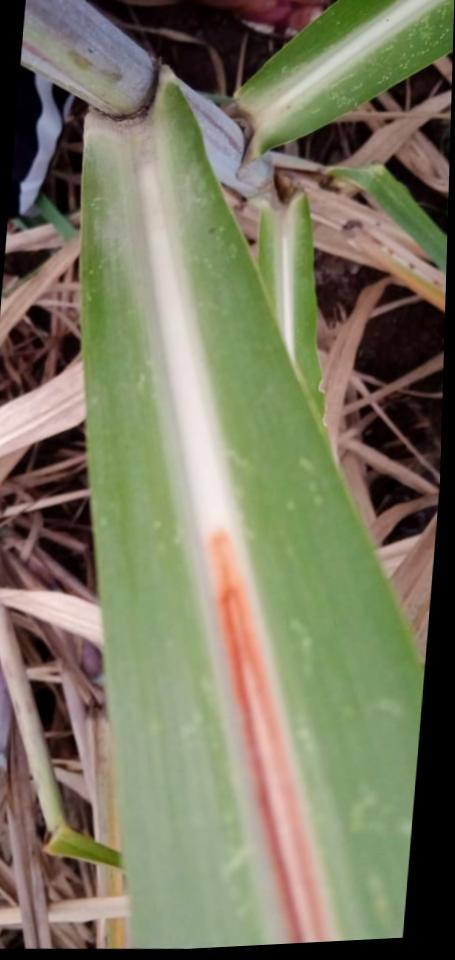RedRot: (207, 525, 329, 944)
